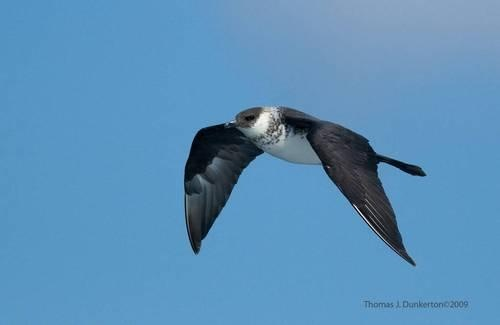bird: (182, 103, 429, 267)
